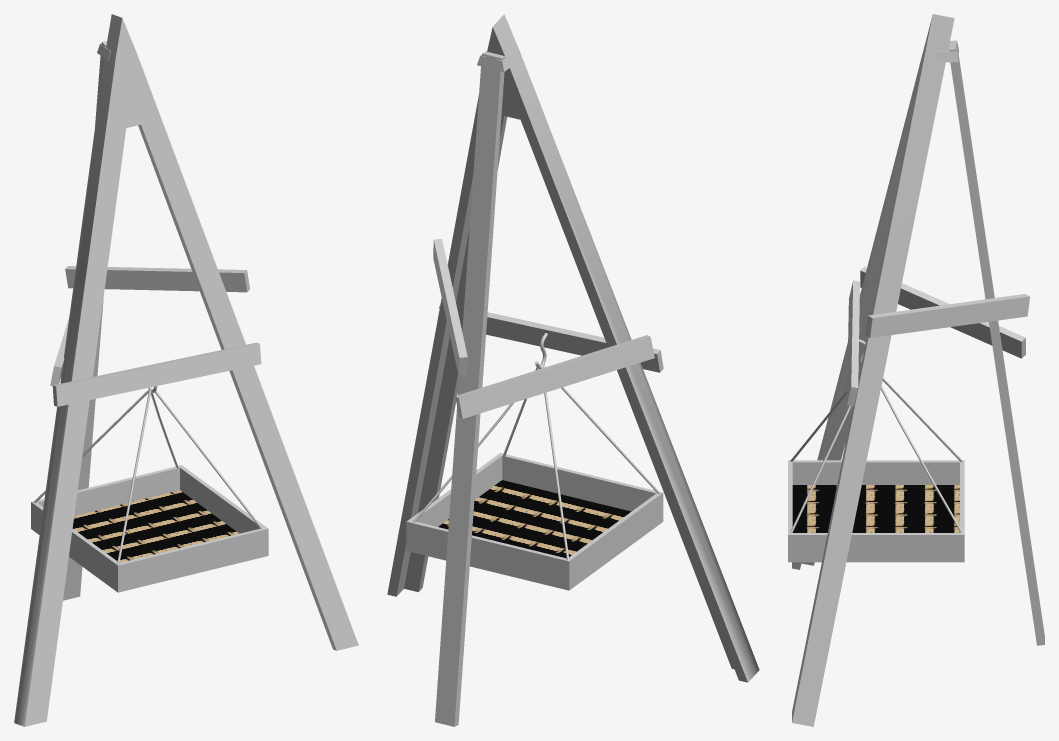
Rendered from prosev_all.FBX.
The picture shows the model from 3 angles, left to right: view 1: azimuth 30°, elevation 25°; view 2: azimuth 150°, elevation 25°; view 3: azimuth 270°, elevation 25°; orthographic projection. The views are drawn at different scales.
Visible parts, largest first — view 1: Unwrapped01, Plane003; view 2: Unwrapped01, Plane003; view 3: Unwrapped01, Plane003.
Part boxes in pixels (left/top/right/bottom): Unwrapped01: left=14, top=14, right=358, bottom=726; Plane003: left=72, top=490, right=238, bottom=562; Unwrapped01: left=387, top=14, right=759, bottom=726; Plane003: left=438, top=480, right=631, bottom=558; Unwrapped01: left=788, top=14, right=1044, bottom=726; Plane003: left=792, top=485, right=959, bottom=532.
Bounding box in the file's own units: 1330 × 2363 × 873.
